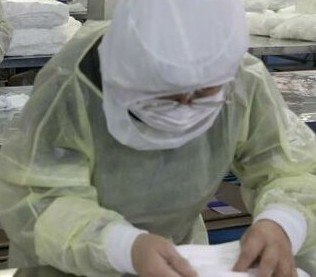with_mask: (122, 35, 233, 143)
